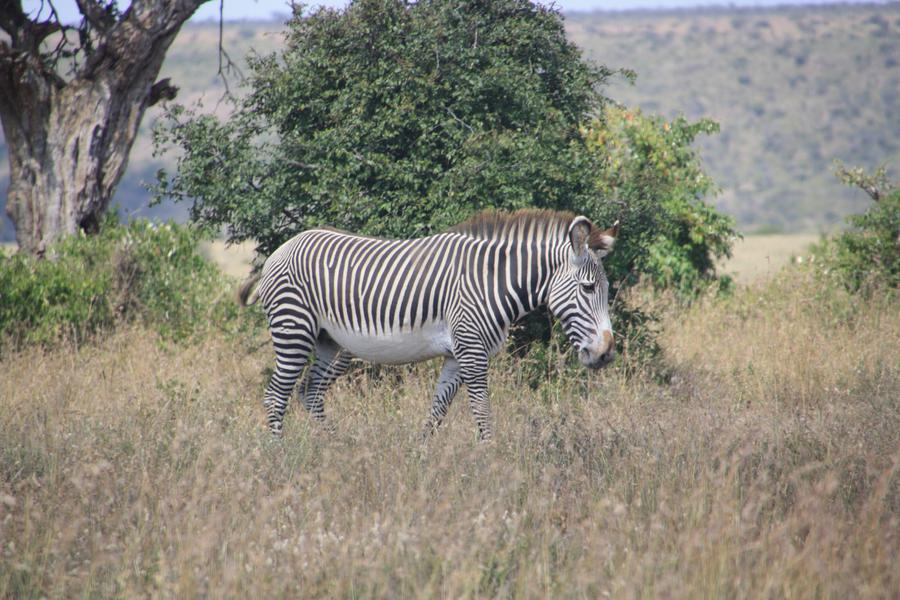zebra_grevys: (260, 217, 500, 350)
